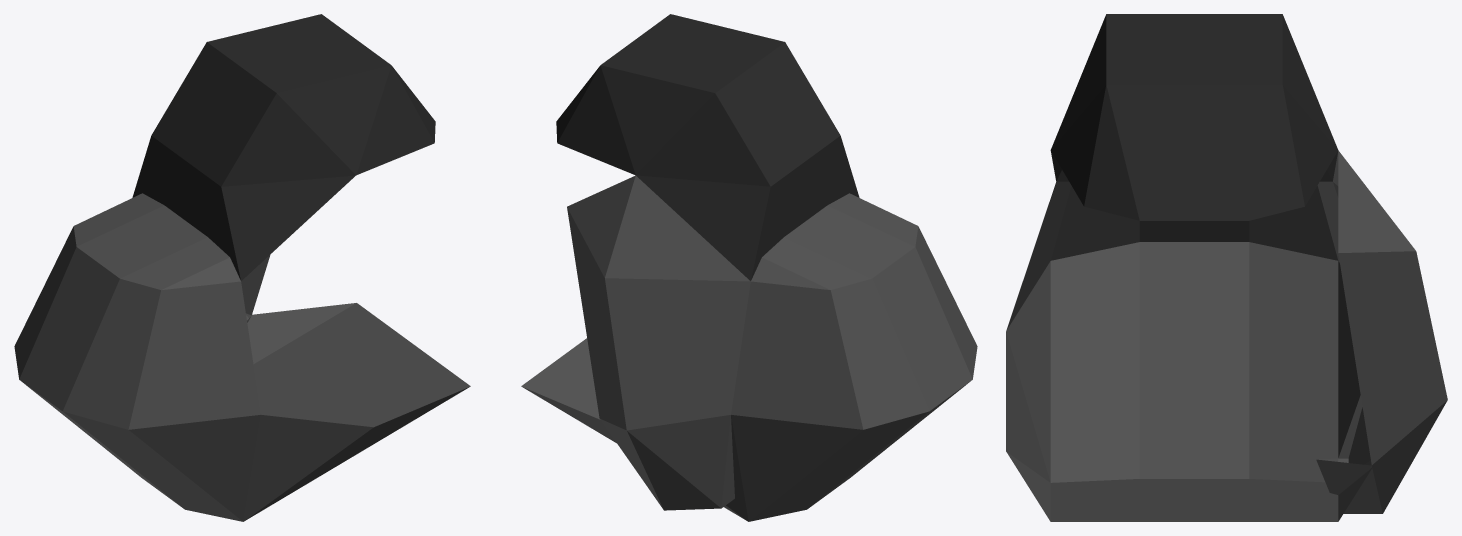
The model's file is RHand.fbx.
The picture shows the model from 3 angles, left to right: view 1: azimuth 30°, elevation 25°; view 2: azimuth 150°, elevation 25°; view 3: azimuth 270°, elevation 25°; orthographic projection. The views are drawn at different scales.
Parts seen in each view (by area): view 1: Shape_IndexedFaceSet.034, Shape_IndexedFaceSet.046; view 2: Shape_IndexedFaceSet.034, Shape_IndexedFaceSet.046; view 3: Shape_IndexedFaceSet.034, Shape_IndexedFaceSet.046.
Part boxes in pixels (bbox=[...]): Shape_IndexedFaceSet.034: bbox=[14, 193, 470, 521]; Shape_IndexedFaceSet.046: bbox=[132, 14, 435, 280]; Shape_IndexedFaceSet.034: bbox=[521, 175, 977, 521]; Shape_IndexedFaceSet.046: bbox=[556, 14, 859, 280]; Shape_IndexedFaceSet.034: bbox=[1006, 150, 1447, 521]; Shape_IndexedFaceSet.046: bbox=[1050, 14, 1338, 220].
Bounding box in the file's own units: 0.1252 × 0.1163 × 0.0907.
3 materials, 3 textured.
